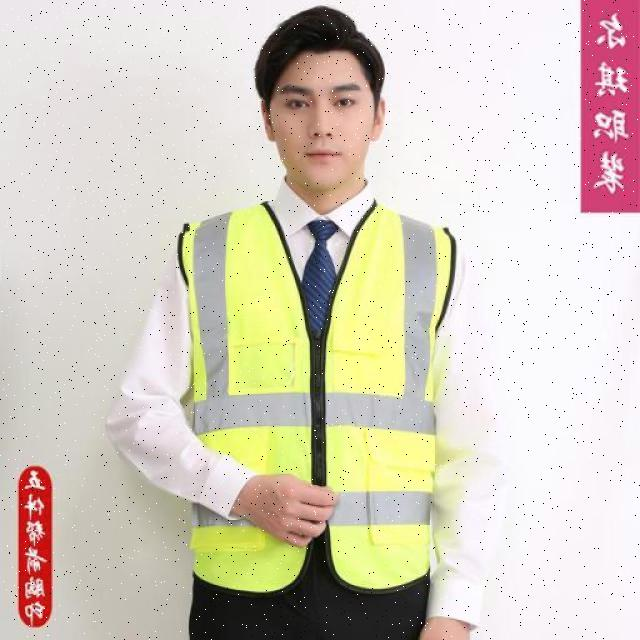Vest: (151, 200, 445, 573)
